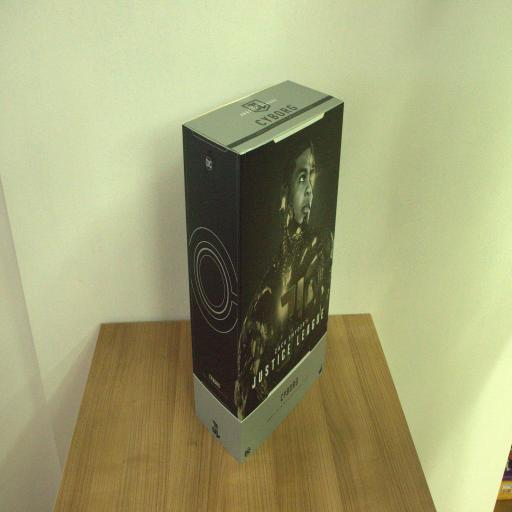Cyborg: (182, 80, 344, 463)
